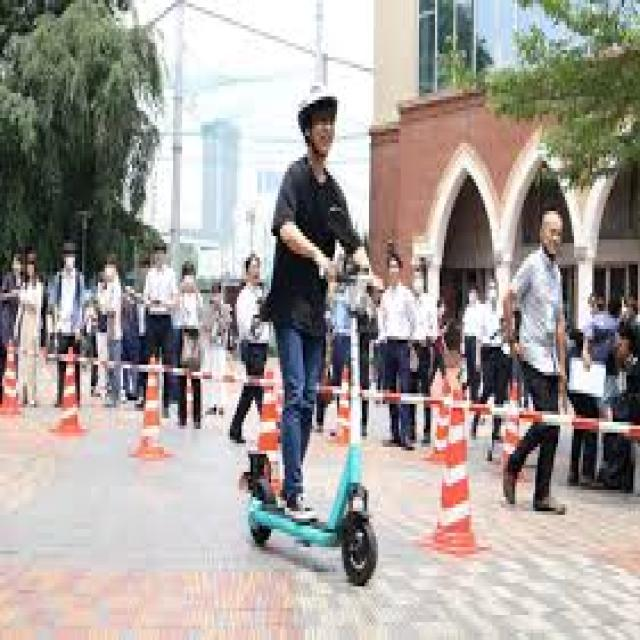helmet: (234, 70, 380, 592)
